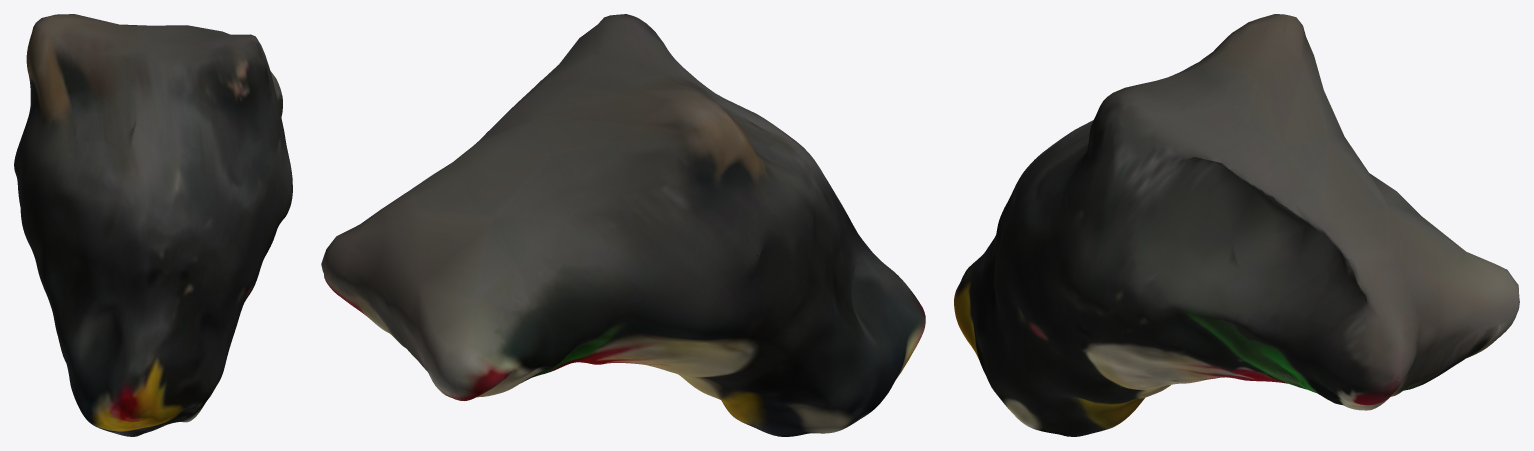
3 views of the same model, side by side, from view 1: azimuth 30°, elevation 25°; view 2: azimuth 150°, elevation 25°; view 3: azimuth 270°, elevation 25° (orthographic). The views are drawn at different scales.
Size of the model in its own units: 0.3685 by 0.3526 by 0.4439.
1 material, 1 textured.
